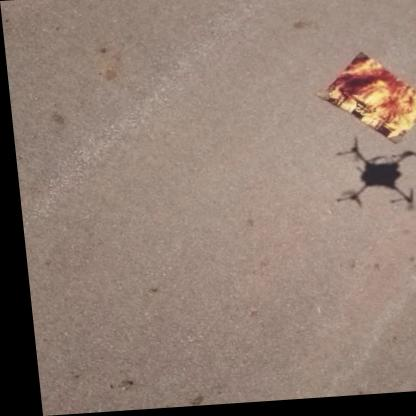fire-poster: (308, 52, 416, 153)
